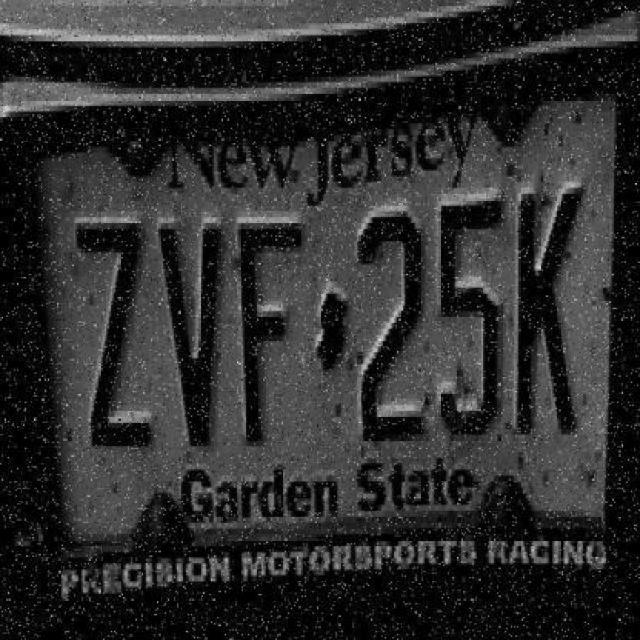licenseplate: (14, 76, 614, 613)
